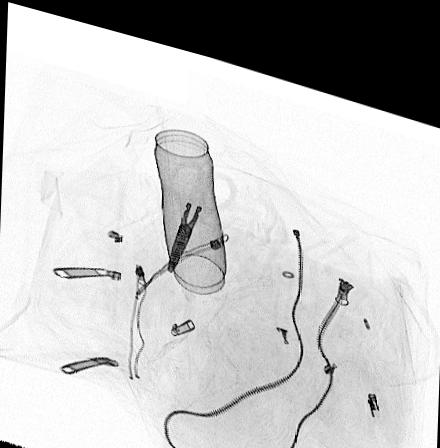Scissors: (163, 147, 242, 269)
